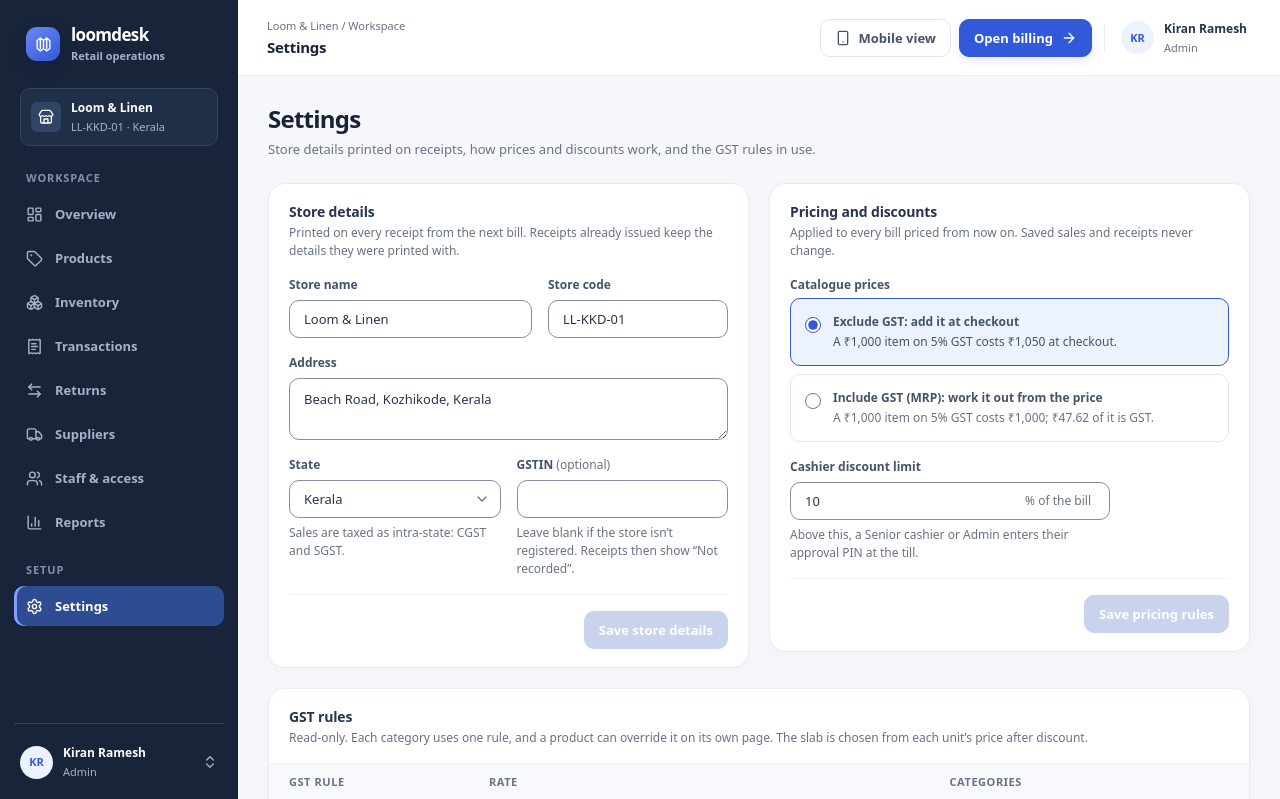
Test: settings › shows the server’s reason next to the field
Expected: the field labelled "Store name" is shown, x1=290 y1=301 x2=531 y2=337
Type "27AAPFU0939F1ZV" into the field labelled "GSTIN (optional)". click: (622, 499)
box: x1=518 y1=481 x2=727 y2=517
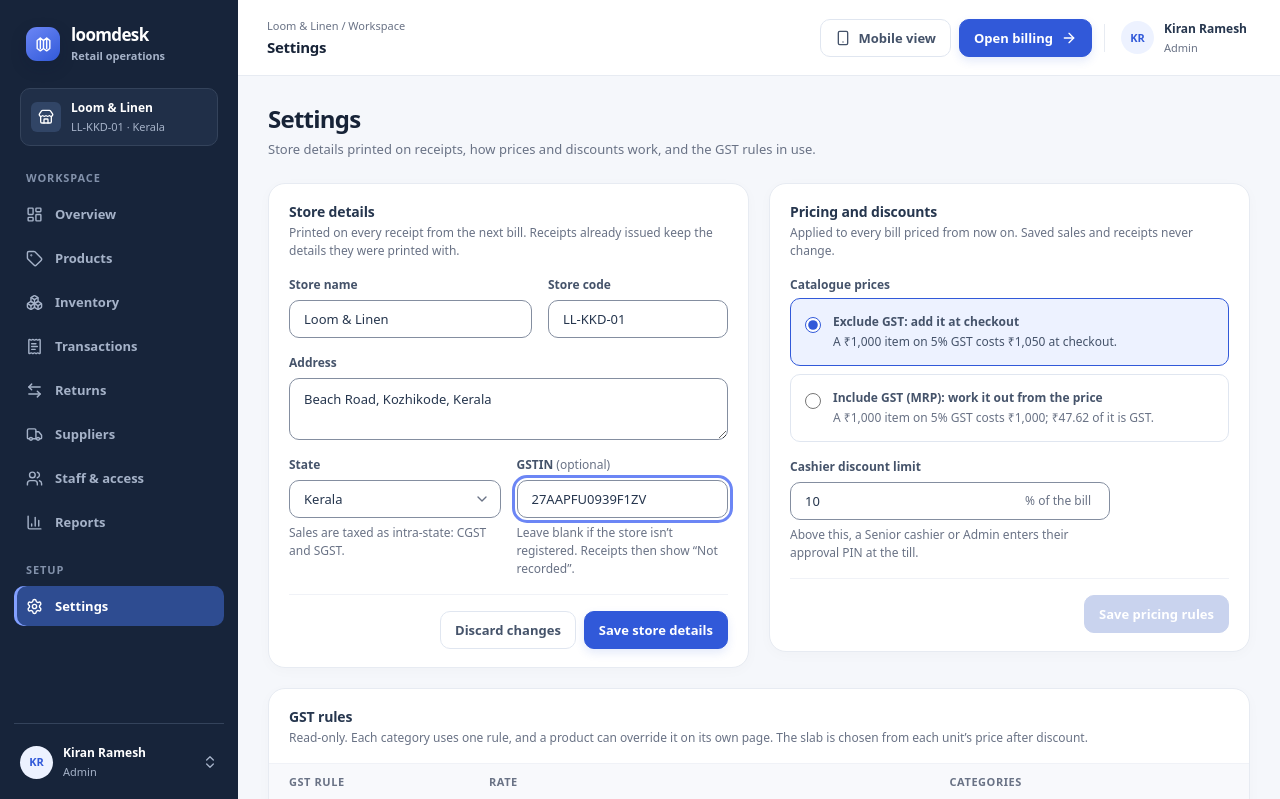
Click the button "Save store details". click: (656, 630)
box: x1=584 y1=611 x2=728 y2=649
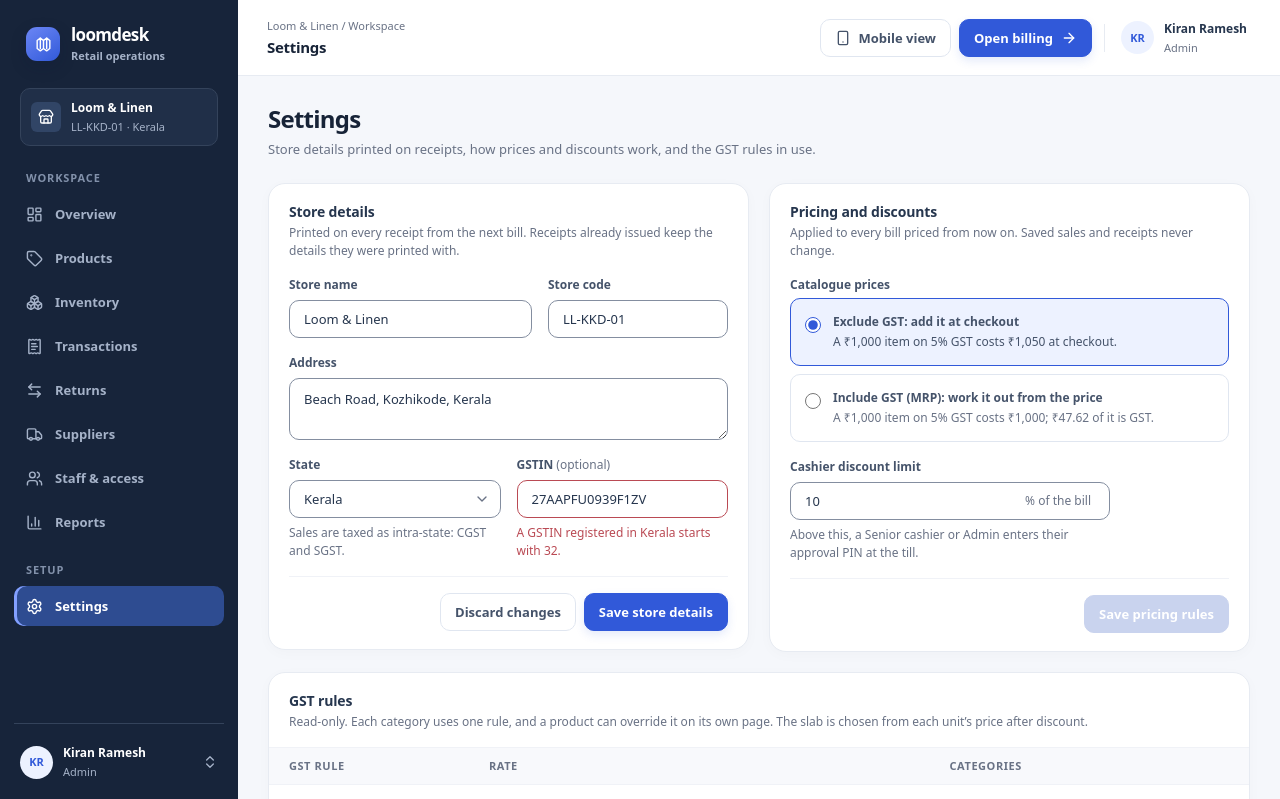
Expected: the text "A GSTIN registered in Kerala starts with 32." is shown, x1=516 y1=524 x2=728 y2=560
